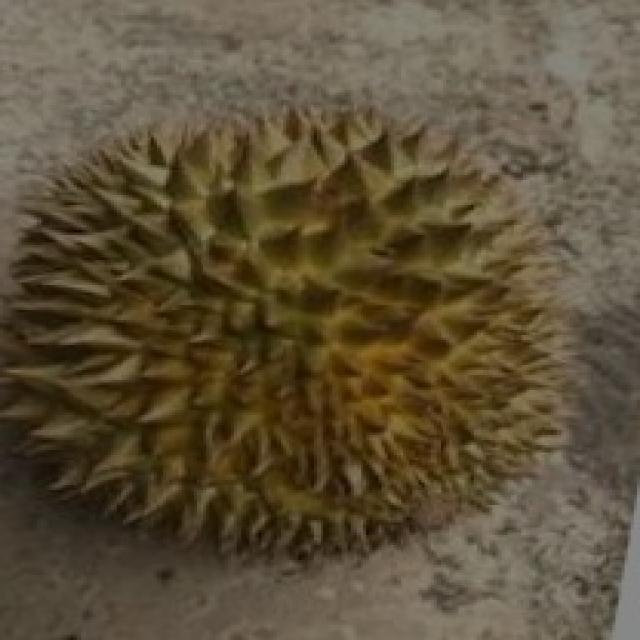fruit: (0, 262, 388, 630)
